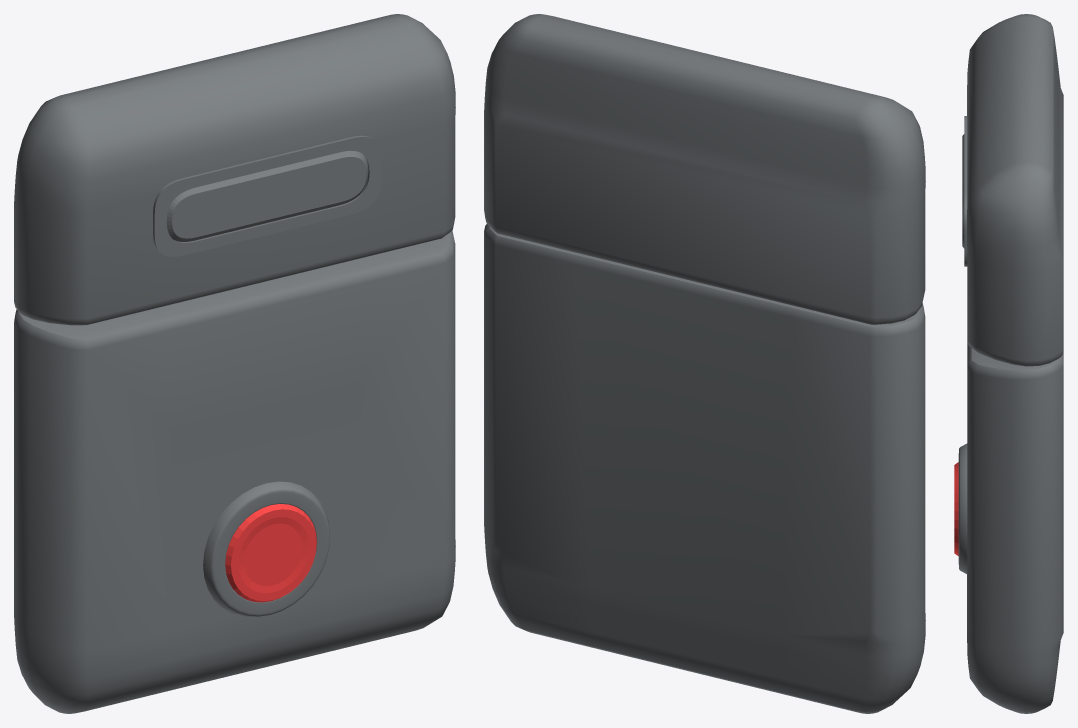
Rendered from EmergencyLightModule.FBX.
3 views of the same model, side by side, from view 1: azimuth 30°, elevation 25°; view 2: azimuth 150°, elevation 25°; view 3: azimuth 270°, elevation 25° (orthographic). The views are drawn at different scales.
Parts seen in each view (by area): view 1: EmergencyLightModule_Body, EmergencyLightModule_Led; view 2: EmergencyLightModule_Body; view 3: EmergencyLightModule_Body, EmergencyLightModule_Led.
Boxes of the visible parts, x1=… form: EmergencyLightModule_Body: x1=14, y1=14, x2=455, y2=713; EmergencyLightModule_Led: x1=225, y1=504, x2=316, y2=602; EmergencyLightModule_Body: x1=484, y1=14, x2=925, y2=713; EmergencyLightModule_Body: x1=958, y1=14, x2=1063, y2=713; EmergencyLightModule_Led: x1=954, y1=462, x2=958, y2=555.
Bounding box in the file's own units: 50.76 × 12.5 × 69.31.
